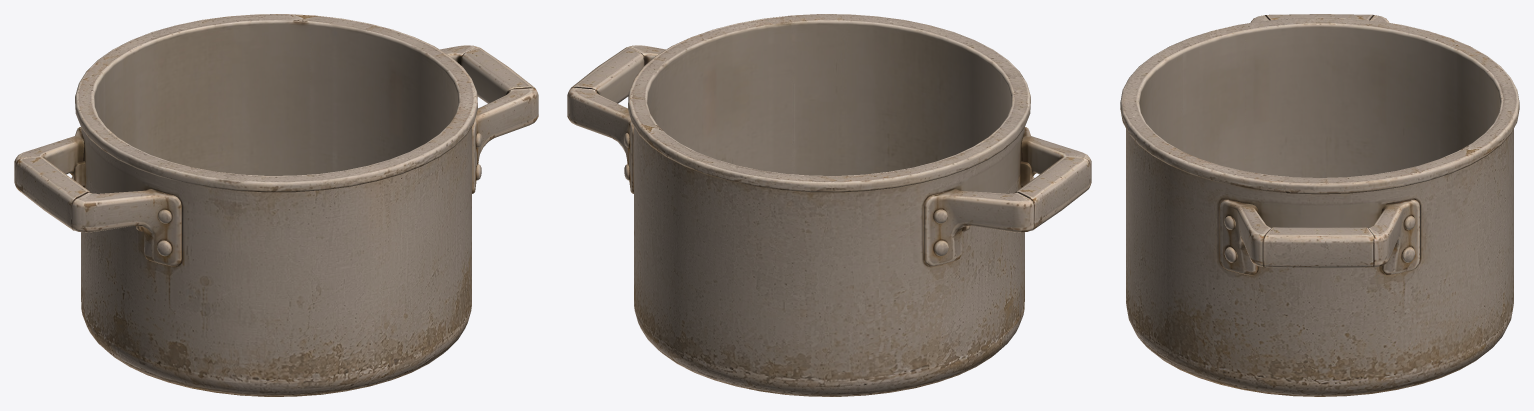
File: P22_cook_pot_Runtime_1k.glb
3 renders of one model, left to right at view 1: azimuth 30°, elevation 25°; view 2: azimuth 150°, elevation 25°; view 3: azimuth 270°, elevation 25°, orthographic.
Visible parts, largest first — view 1: tripo_node_99979041; view 2: tripo_node_99979041; view 3: tripo_node_99979041.
Part boxes in pixels (x1,y1,x2,y2): tripo_node_99979041: (14,14,538,396); tripo_node_99979041: (567,14,1091,396); tripo_node_99979041: (1120,14,1519,396).
Size of the model in its own units: 0.42 by 0.1898 by 0.3133.
Materials: 1 (1 with a texture image).
